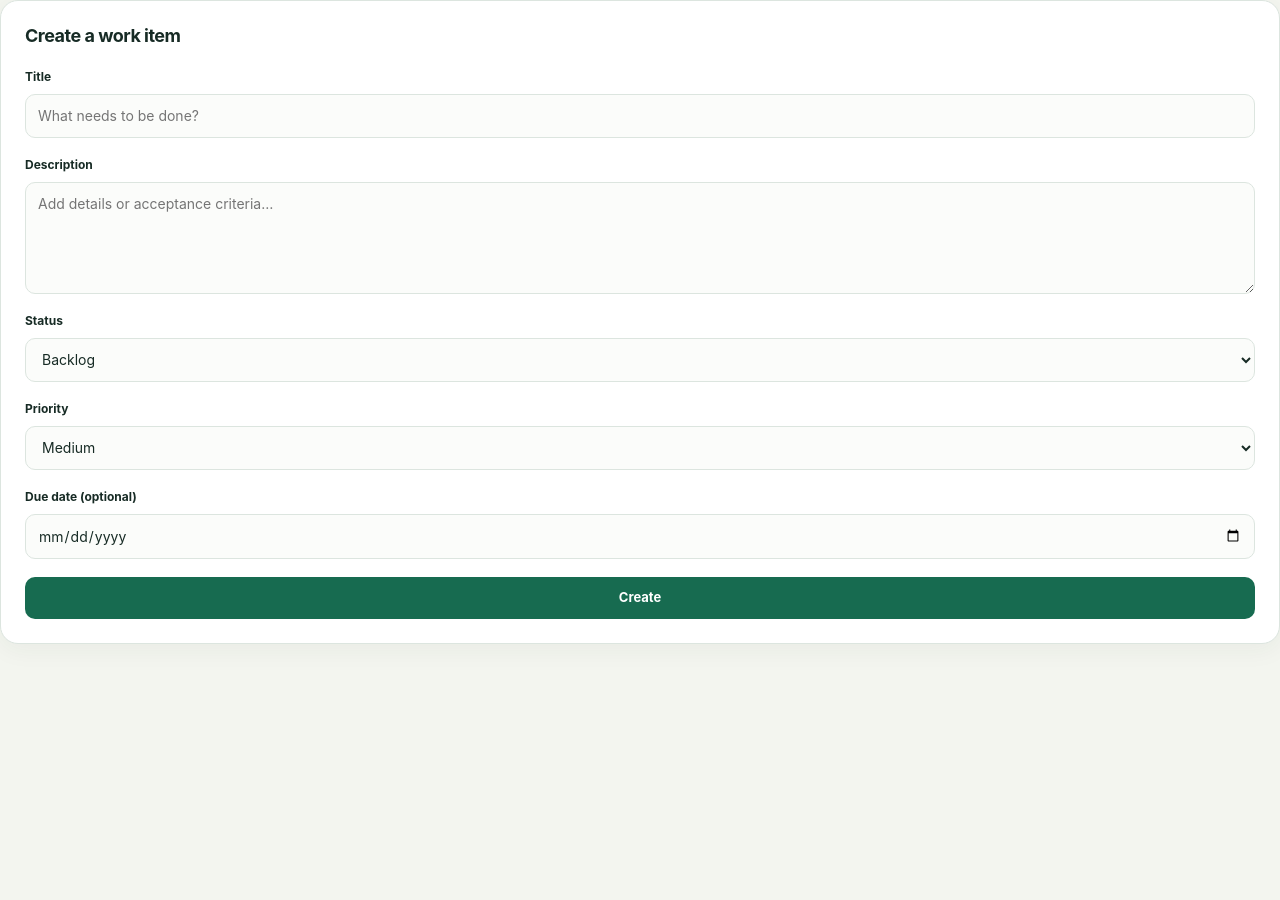
Test case: WorkItemForm › shows a save error and keeps the draft available for retry
The image size is (1280, 900).
Type "Build invoice editor" into the field labelled "Title" at (640, 116), box [25, 94, 1255, 138]
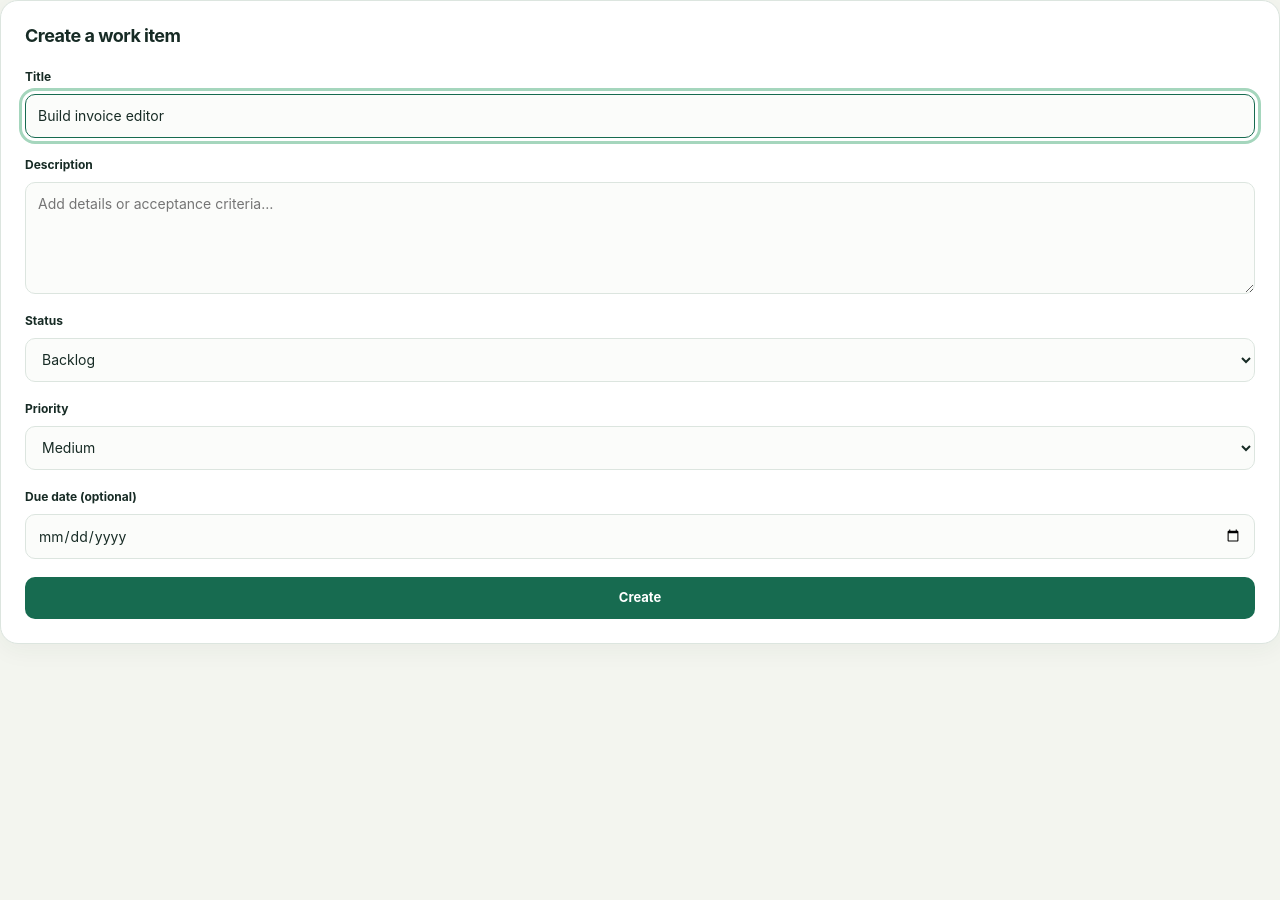
Click the button "Create" at (640, 598), box [25, 576, 1255, 618]
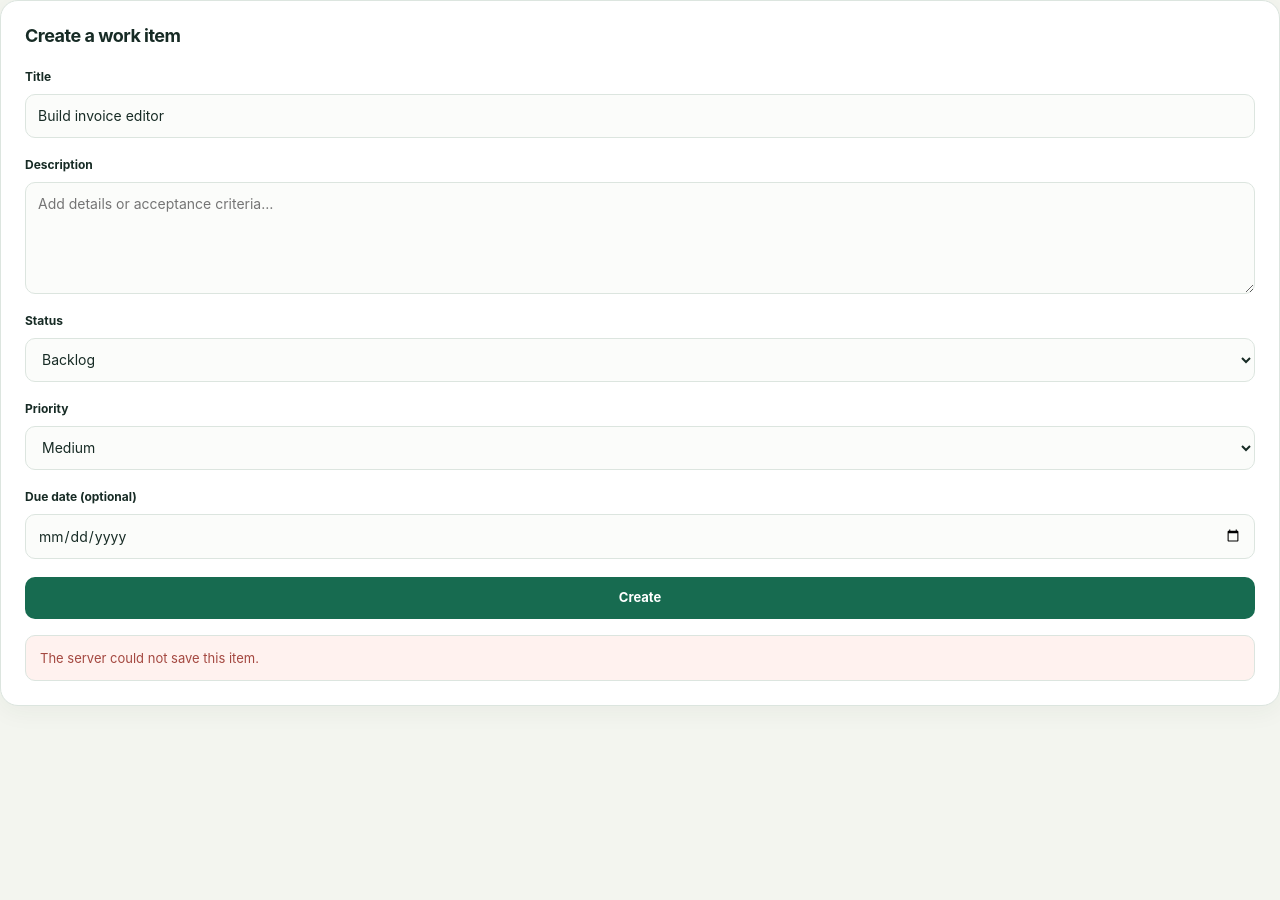
Check: the text "The server could not save this item." is shown, box [25, 634, 1255, 681]
